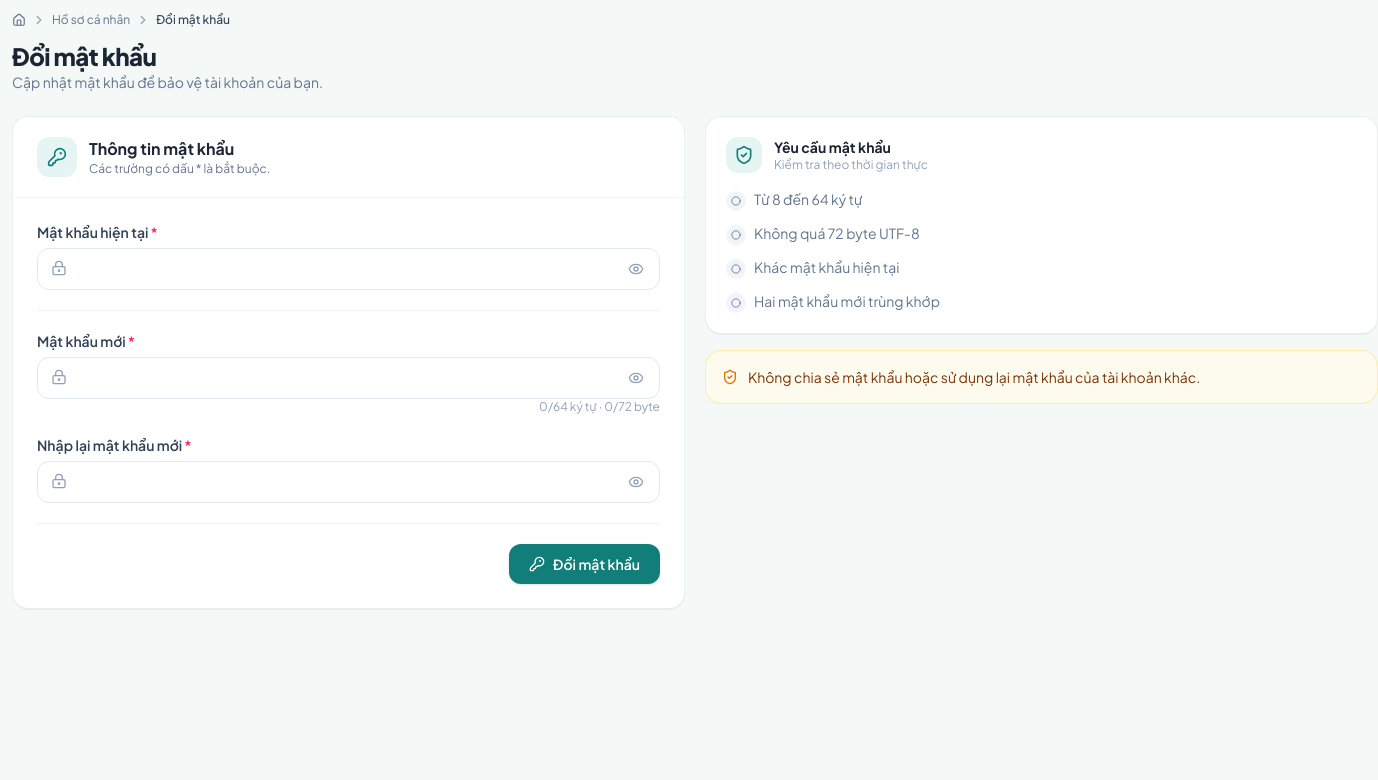
ChangePasswordForm › explains a wrong current password
The width and height of the screenshot is (1378, 780).
Type "wrong-pass" into the password field labelled "Mật khẩu hiện tại" at (348, 269), box x1=37 y1=248 x2=660 y2=290
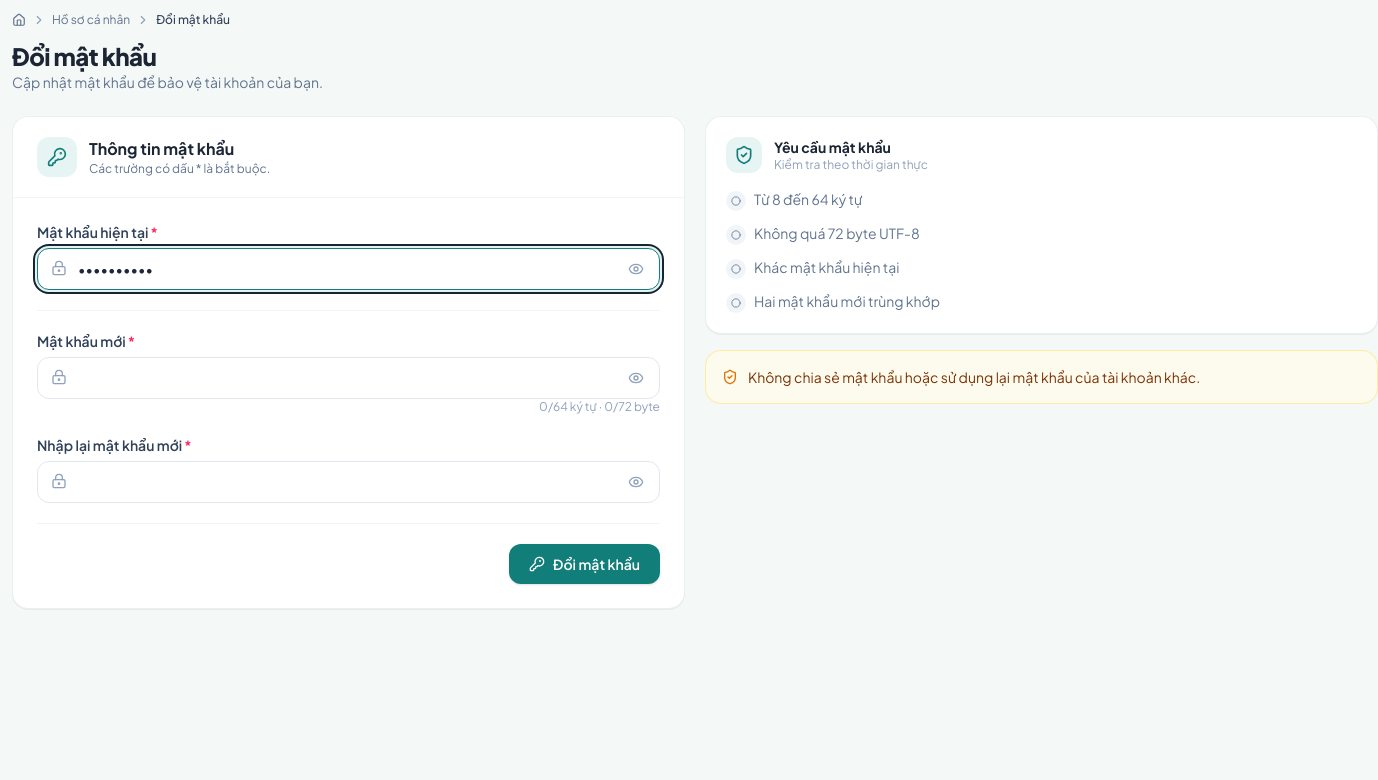
Type "brand-new-password" into the password field labelled "Mật khẩu mới" at (348, 378), box x1=37 y1=357 x2=660 y2=399
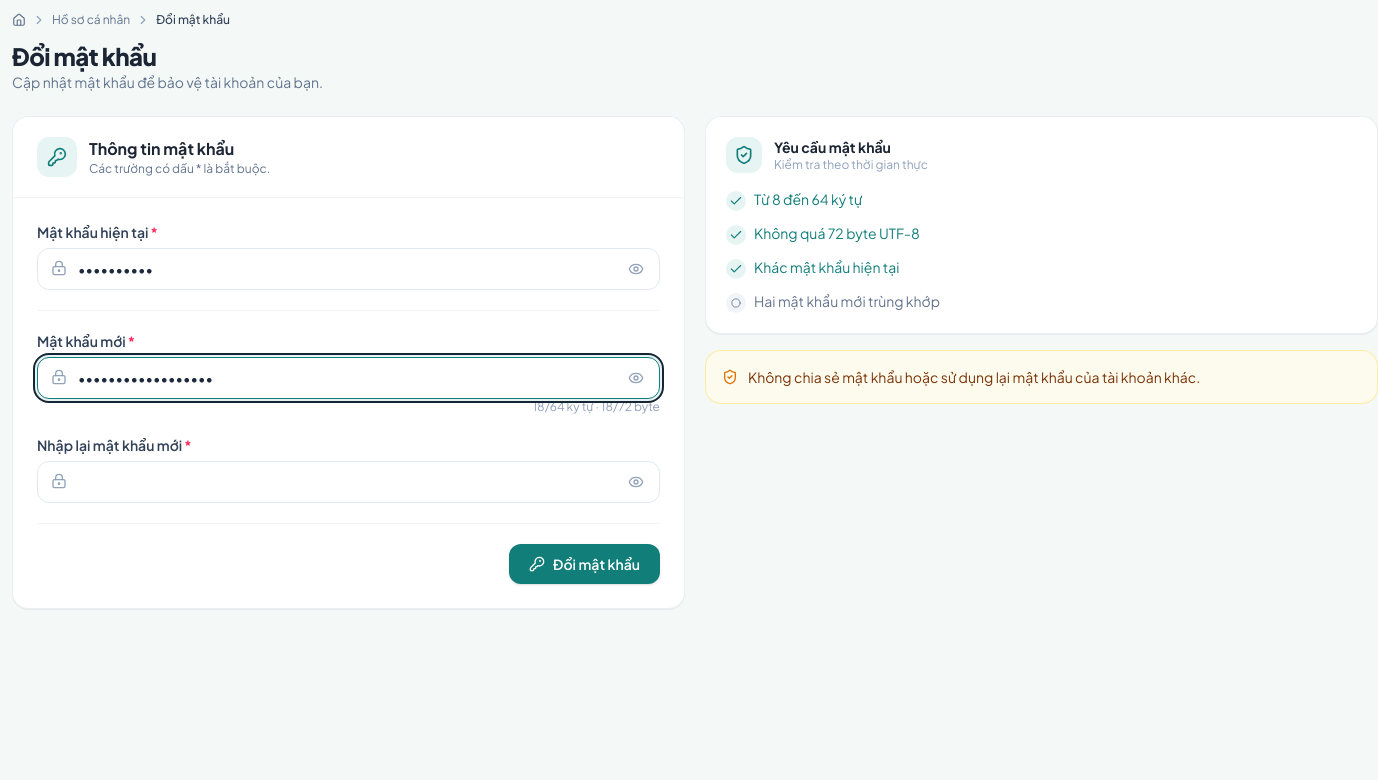
Type "brand-new-password" into the password field labelled "Nhập lại mật khẩu mới" at (348, 482), box x1=37 y1=461 x2=660 y2=503
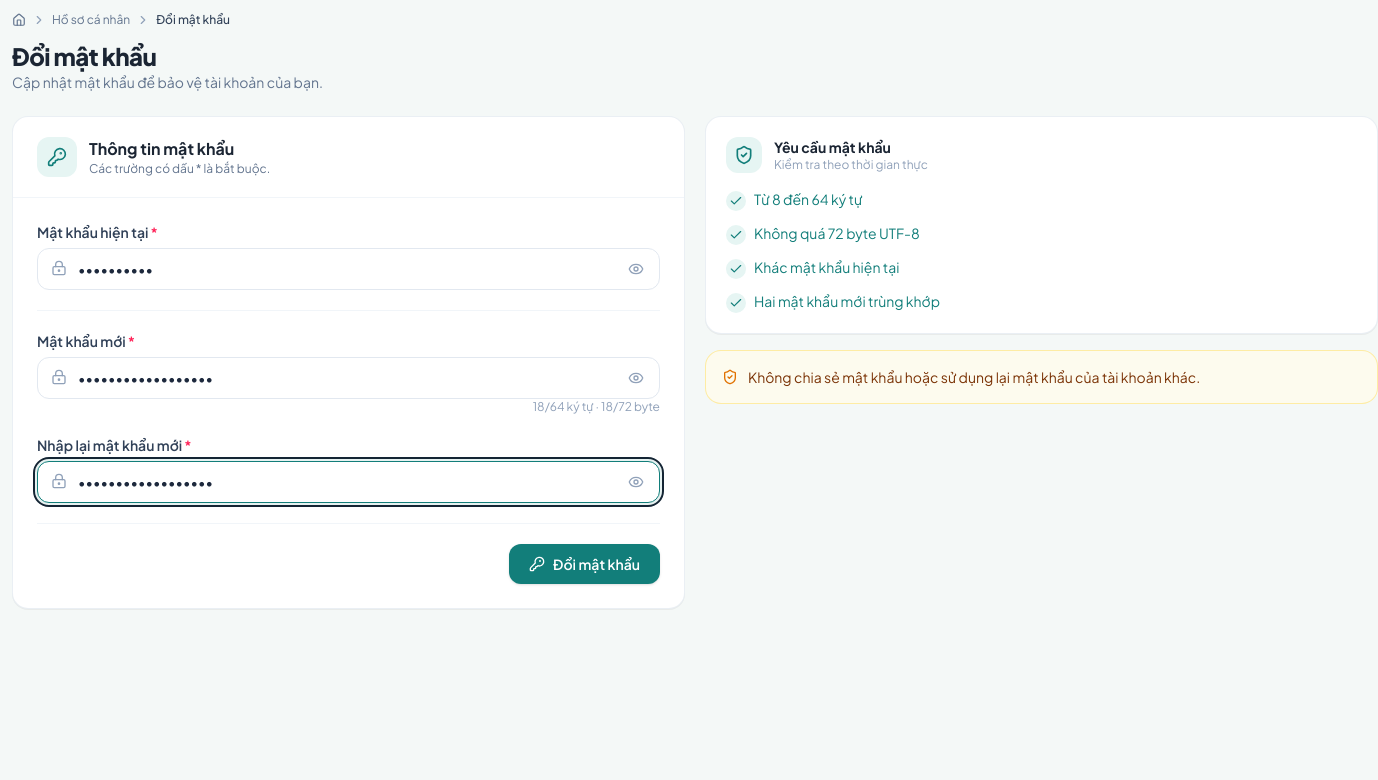
Click the button "Đổi mật khẩu" at (585, 564), box x1=509 y1=544 x2=660 y2=584
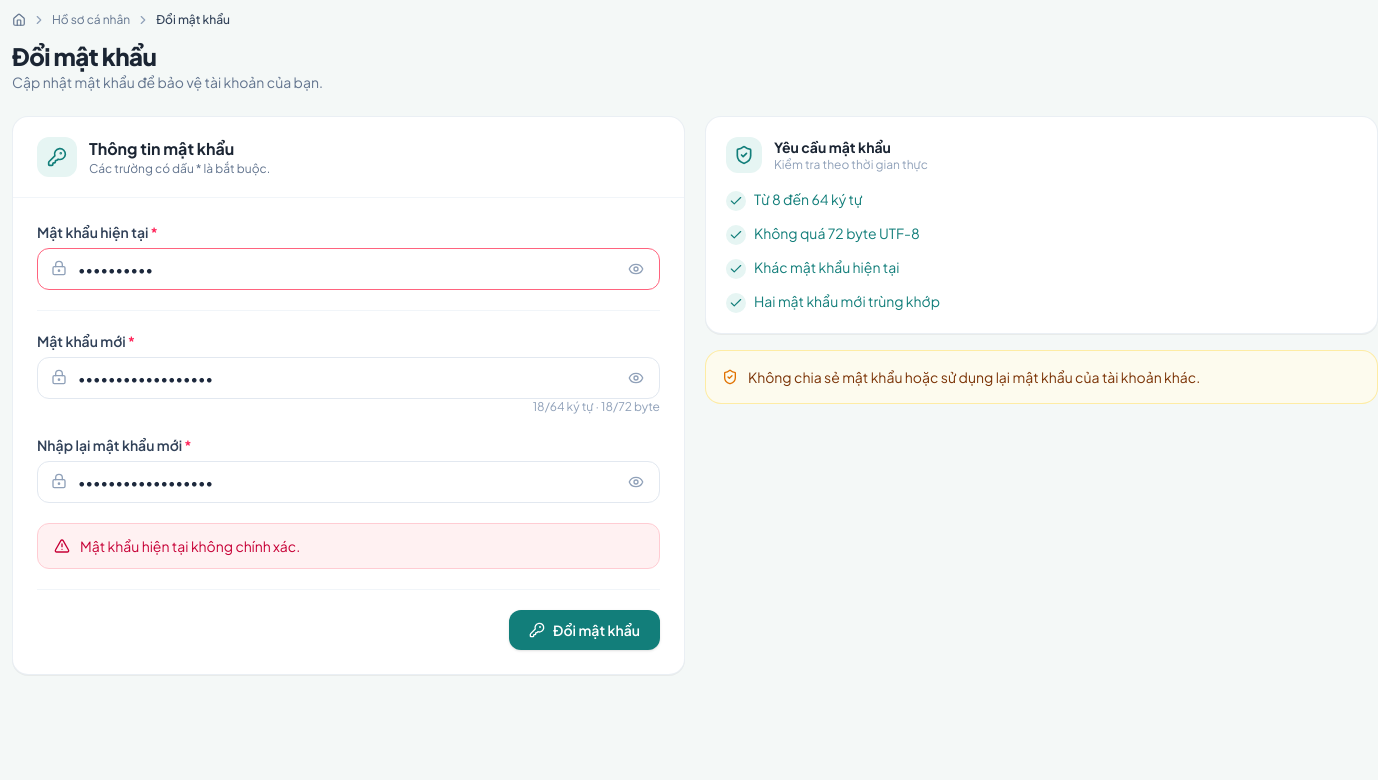
Result: the message reads "Mật khẩu hiện tại không chính xác." at x1=80 y1=537 x2=300 y2=555
